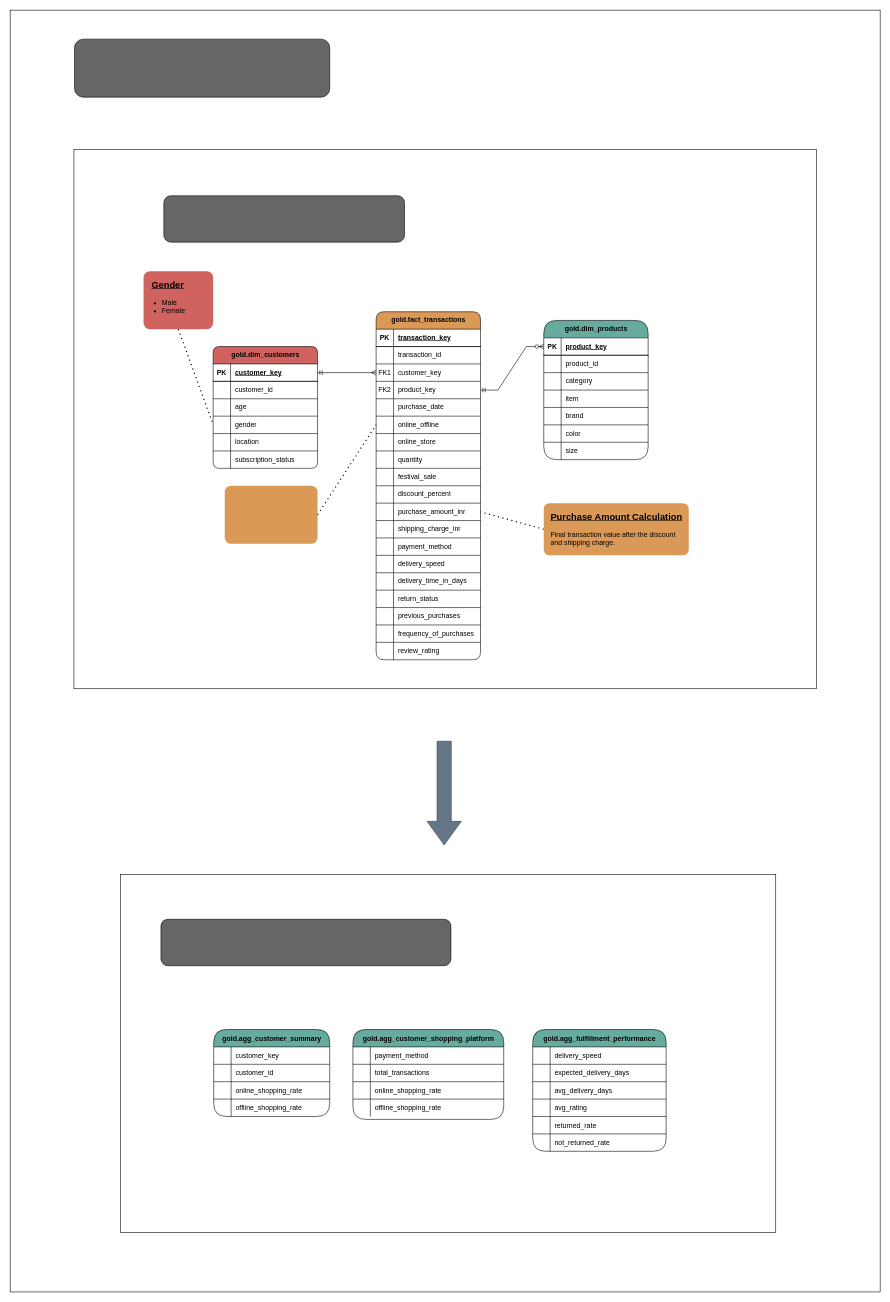
Some shapes in this 890 by 1302 pixel diagram are drawn without their labels. Each missing label, with the centre of its shape:
"Aggregated Views" goes at (x=305, y=942).
"Data Mart" goes at (x=202, y=68).
"Data Model (Star Schema)" goes at (x=284, y=218).
"Shopping mode Online Offline" goes at (x=270, y=514).
